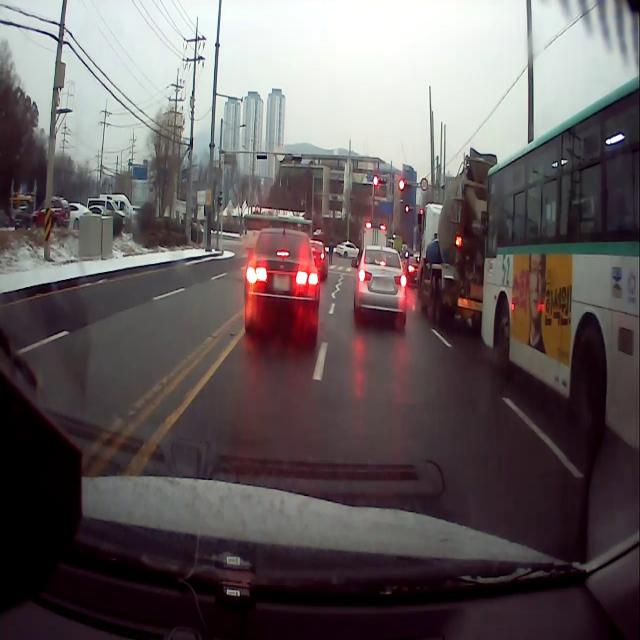Red Light: (399, 179, 404, 190), (374, 175, 378, 186)
